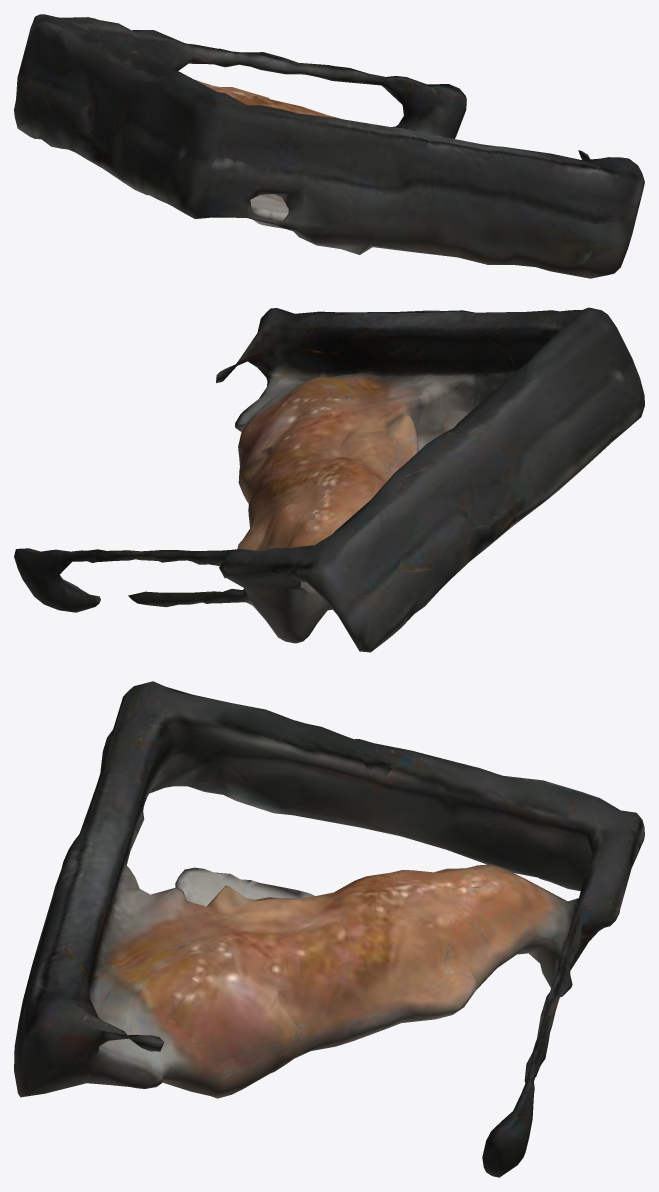
Rendered from hall.glb.
The picture shows the model from 3 angles, top to bottom: view 1: azimuth 30°, elevation 25°; view 2: azimuth 150°, elevation 25°; view 3: azimuth 270°, elevation 25°; orthographic projection. The views are drawn at different scales.
Size of the model in its own units: 0.6795 by 0.385 by 0.7562.
1 material, 1 textured.
